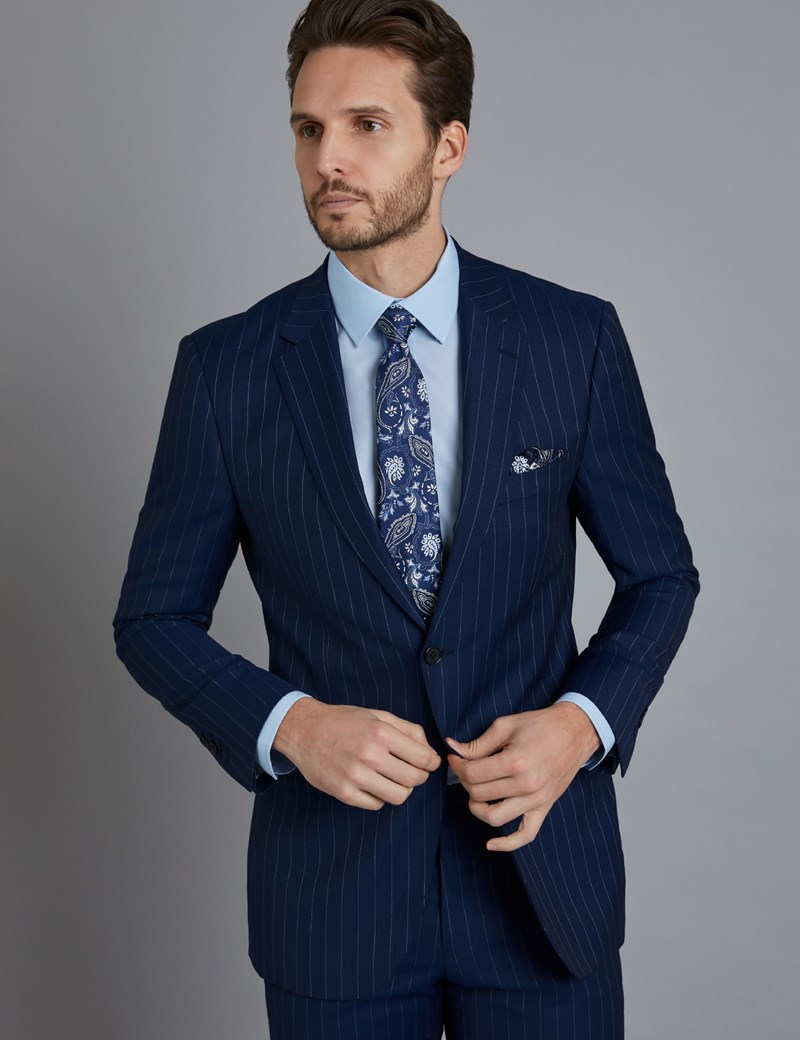F_M_suit jacket: (117, 260, 711, 979)
F_shirt: (317, 256, 483, 552)
F_tie: (375, 318, 436, 597)
